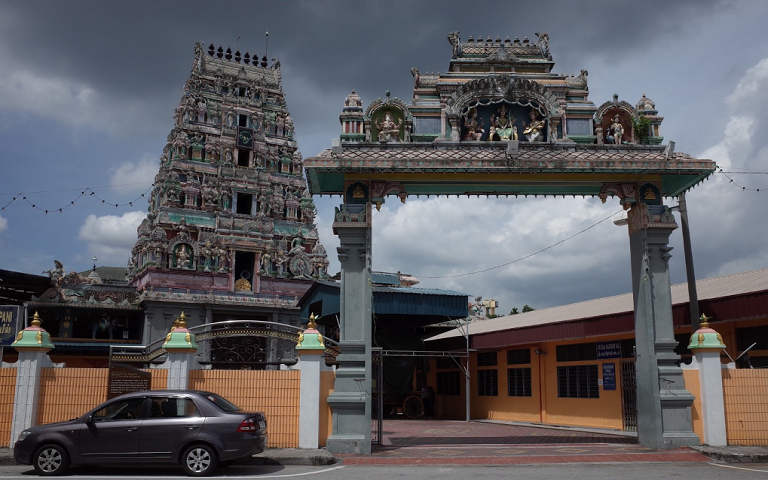Hindu Temple: (141, 37, 322, 374)
